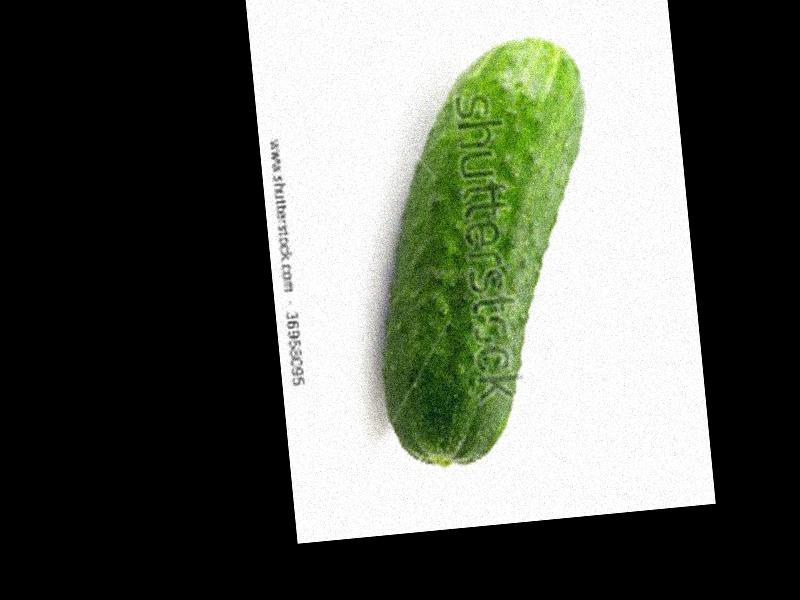Cucumber: (350, 33, 619, 470)
